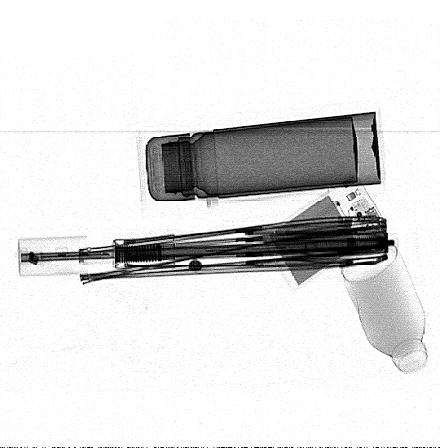Powerbank: (259, 171, 387, 294)
